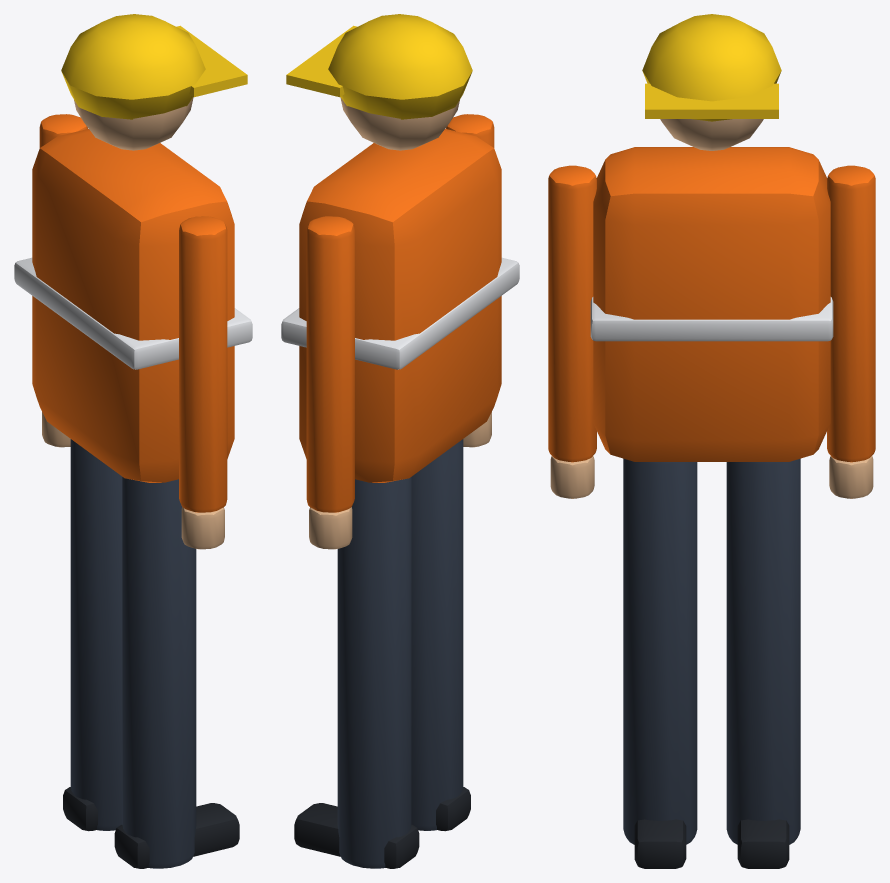
The model's file is person.glb.
3 views of the same model, side by side, from view 1: azimuth 30°, elevation 25°; view 2: azimuth 150°, elevation 25°; view 3: azimuth 270°, elevation 25° (orthographic).
Visible parts, largest first — view 1: body; view 2: body; view 3: body.
Boxes of the visible parts, x1=… form: body: x1=14, y1=14, x2=252, y2=868; body: x1=281, y1=14, x2=519, y2=868; body: x1=548, y1=14, x2=875, y2=868.
Bounding box in the file's own units: 0.3217 × 1.74 × 0.6344.
